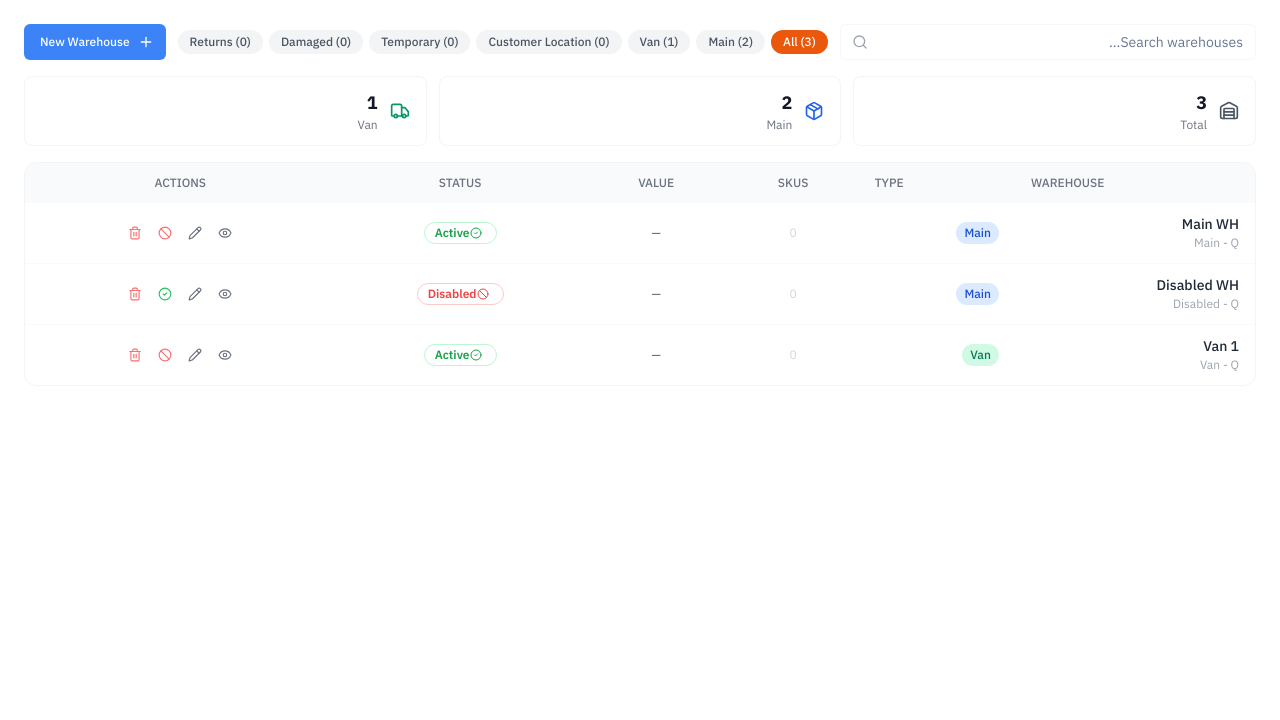
Test: English translations (isRTL=false) › shows English form labels in create dialog
Step 1. Click the button "New Warehouse" → (95, 42), box [24,24,166,60]
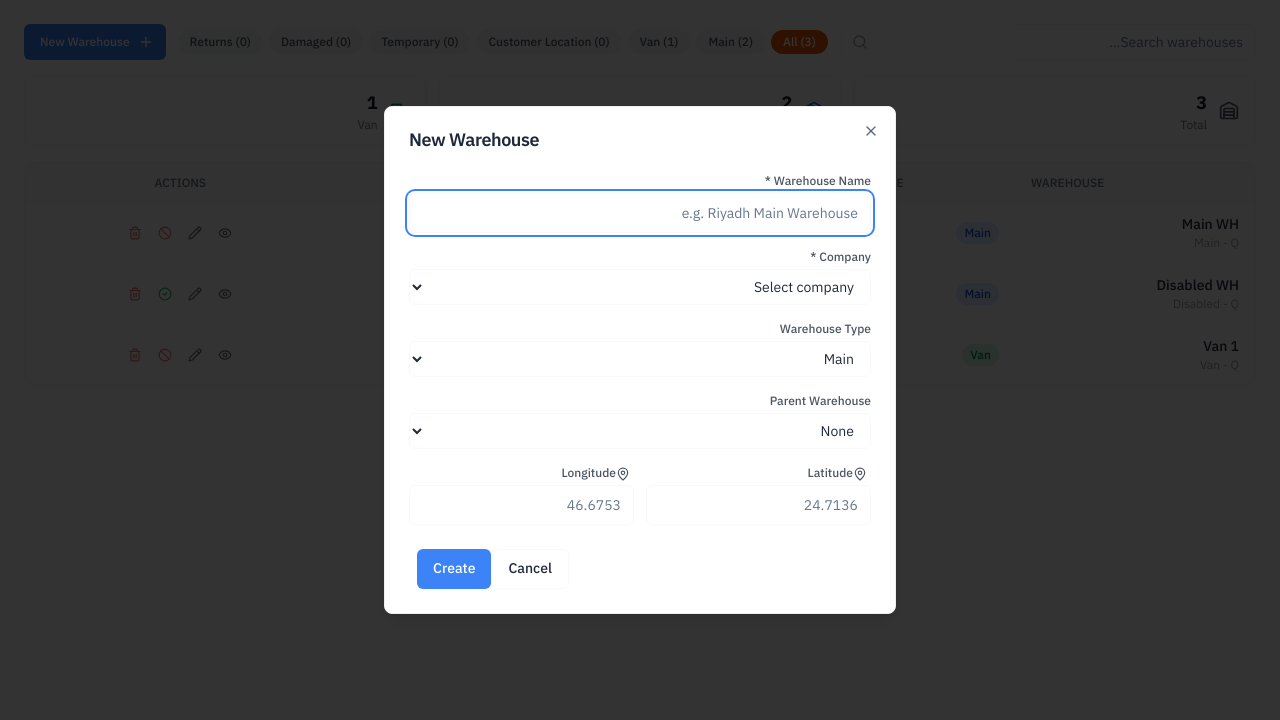
Expected: the text "Warehouse Name *" is shown, [765,172,871,190]
Expected: the text "Warehouse Type" is shown, [780,320,871,338]
